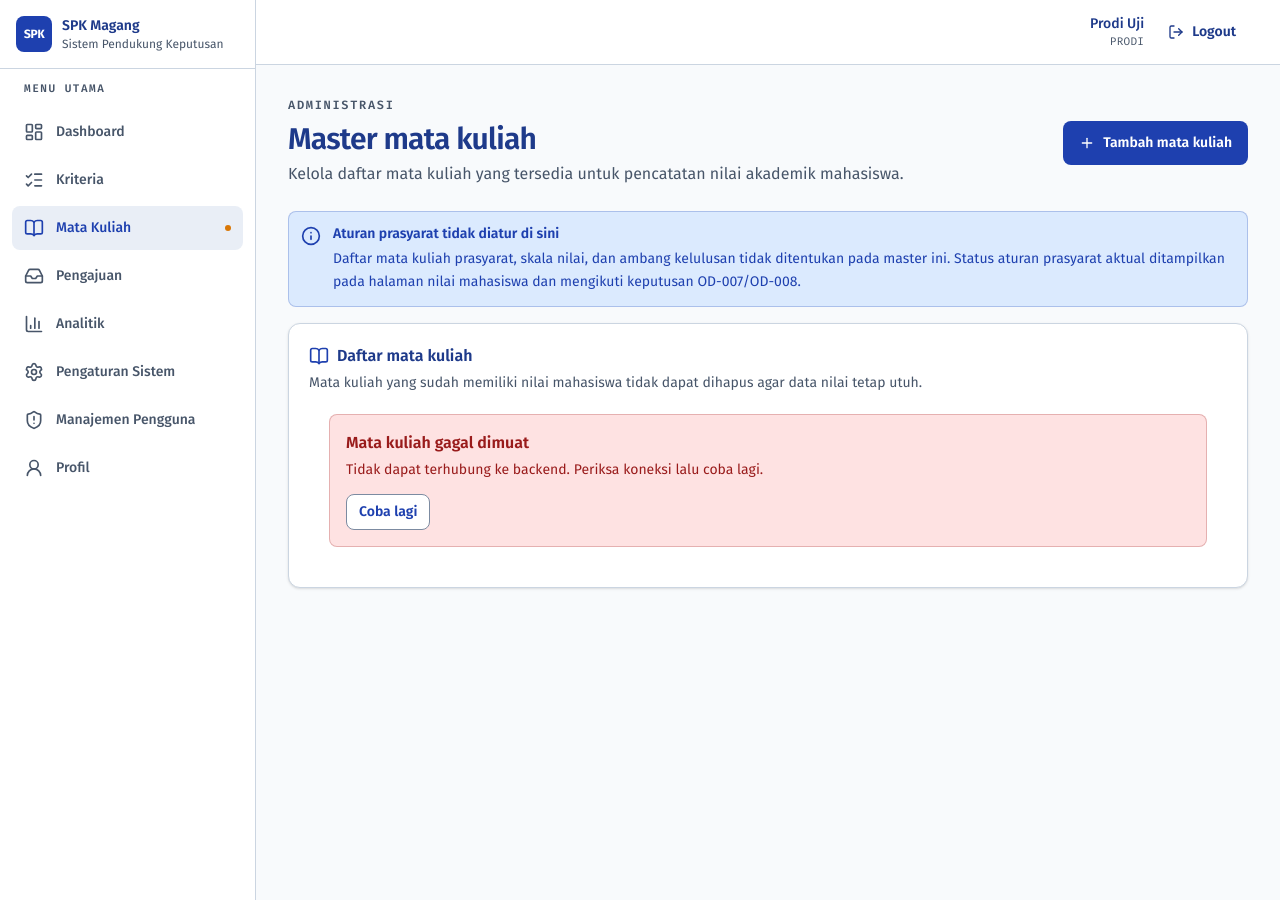
Scenario: CoursesPage › menampilkan error state dan dapat mencoba ulang
Expected: the text "Mata kuliah gagal dimuat" is shown, x1=346 y1=433 x2=529 y2=452
Click the button "Coba lagi".
click(388, 512)  # box x1=346 y1=494 x2=430 y2=530
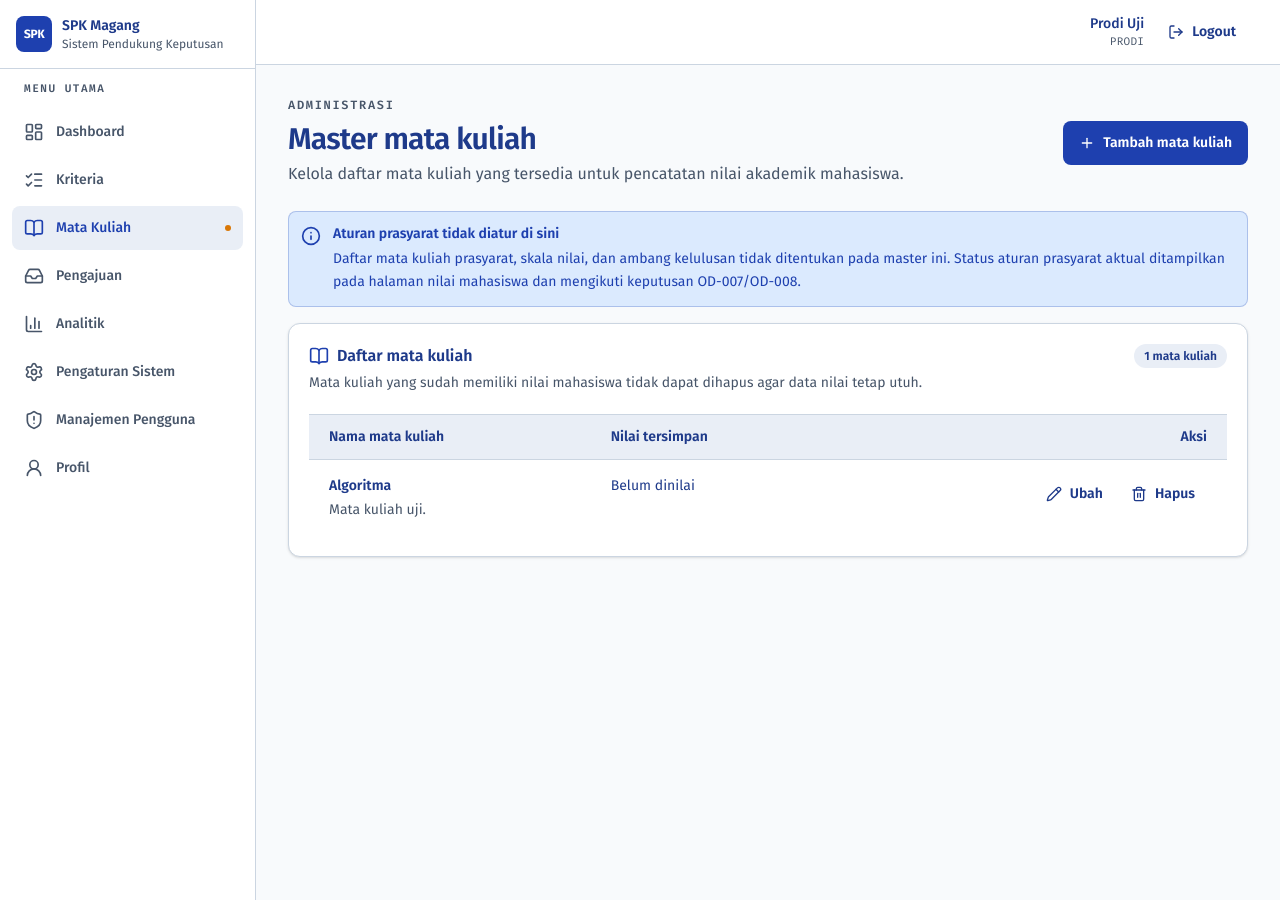
Expected: the text "Algoritma" is shown, x1=329 y1=477 x2=391 y2=494
